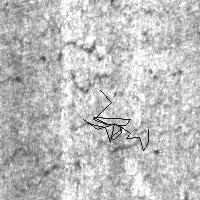crazing: (37, 31, 181, 100), (1, 132, 92, 195), (83, 90, 148, 150)
